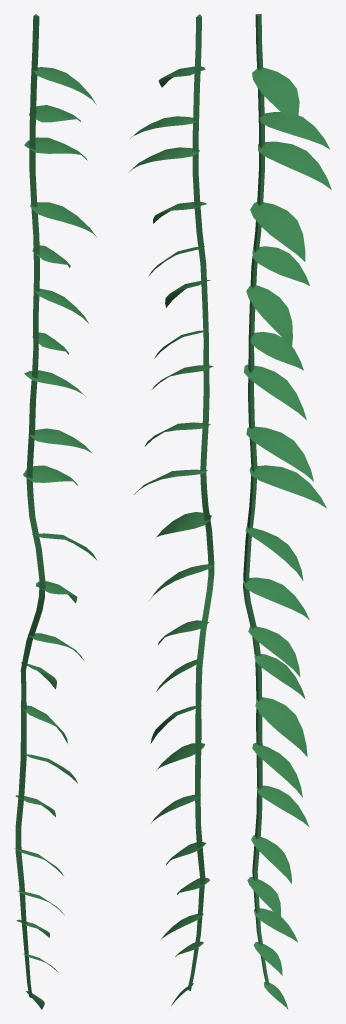
The model's file is vine_curved_B_scanden.fbx.
The picture shows the model from 3 angles, left to right: view 1: azimuth 30°, elevation 25°; view 2: azimuth 150°, elevation 25°; view 3: azimuth 330°, elevation 25°; orthographic projection.
Parts seen in each view (by area): view 1: vine_curved_B_scanden_root, vine_scanden_A_leaf_A364, vine_scanden_A_leaf_A, vine_scanden_A_leaf_A373, vine_scanden_A_leaf_A363, vine_scanden_A_leaf_A360, vine_scanden_A_leaf_A374, vine_scanden_A_leaf_A429, vine_scanden_A_leaf_A369, vine_scanden_A_leaf_A368, vine_scanden_A_leaf_A370, vine_scanden_A_leaf_A362 (+3 smaller); view 2: vine_curved_B_scanden_root, vine_scanden_A_leaf_A361, vine_scanden_A_leaf_A363, vine_scanden_A_leaf_A374, vine_scanden_A_leaf_A414, vine_scanden_A_leaf_A362, vine_scanden_A_leaf_A360, vine_scanden_A_leaf_A, vine_scanden_A_leaf_A365, vine_scanden_A_leaf_A373, vine_scanden_A_leaf_A405, vine_scanden_A_leaf_A364 (+4 smaller); view 3: vine_curved_B_scanden_root, vine_scanden_A_leaf_A364, vine_scanden_A_leaf_A373, vine_scanden_A_leaf_A363, vine_scanden_A_leaf_A, vine_scanden_A_leaf_A369, vine_scanden_A_leaf_A402, vine_scanden_A_leaf_A360, vine_scanden_A_leaf_A429, vine_scanden_A_leaf_A368, vine_scanden_A_leaf_A362, vine_scanden_A_leaf_A374 (+10 smaller).
Boxes of the visible parts, left/top/right/bottom form: vine_curved_B_scanden_root: left=15, top=14, right=45, bottom=997; vine_scanden_A_leaf_A364: left=30, top=202, right=96, bottom=236; vine_scanden_A_leaf_A: left=29, top=428, right=91, bottom=452; vine_scanden_A_leaf_A373: left=33, top=67, right=96, bottom=104; vine_scanden_A_leaf_A363: left=24, top=137, right=87, bottom=160; vine_scanden_A_leaf_A360: left=23, top=465, right=77, bottom=485; vine_scanden_A_leaf_A374: left=29, top=105, right=80, bottom=122; vine_scanden_A_leaf_A429: left=24, top=370, right=86, bottom=397; vine_scanden_A_leaf_A369: left=34, top=288, right=88, bottom=323; vine_scanden_A_leaf_A368: left=32, top=245, right=70, bottom=267; vine_scanden_A_leaf_A370: left=32, top=332, right=68, bottom=354; vine_scanden_A_leaf_A362: left=36, top=581, right=77, bottom=603; vine_curved_B_scanden_root: left=188, top=14, right=214, bottom=990; vine_scanden_A_leaf_A361: left=156, top=512, right=211, bottom=537; vine_scanden_A_leaf_A363: left=128, top=147, right=199, bottom=172; vine_scanden_A_leaf_A374: left=130, top=116, right=195, bottom=138; vine_scanden_A_leaf_A414: left=156, top=743, right=205, bottom=770; vine_scanden_A_leaf_A362: left=149, top=564, right=213, bottom=600; vine_scanden_A_leaf_A360: left=134, top=469, right=207, bottom=494; vine_scanden_A_leaf_A: left=144, top=422, right=210, bottom=446; vine_scanden_A_leaf_A365: left=158, top=620, right=208, bottom=644; vine_scanden_A_leaf_A373: left=158, top=66, right=205, bottom=87; vine_scanden_A_leaf_A405: left=150, top=794, right=199, bottom=823; vine_scanden_A_leaf_A364: left=153, top=202, right=206, bottom=223; vine_curved_B_scanden_root: left=243, top=14, right=269, bottom=985; vine_scanden_A_leaf_A364: left=250, top=202, right=305, bottom=261; vine_scanden_A_leaf_A373: left=252, top=67, right=299, bottom=127; vine_scanden_A_leaf_A363: left=258, top=141, right=331, bottom=189; vine_scanden_A_leaf_A: left=246, top=426, right=313, bottom=481; vine_scanden_A_leaf_A369: left=246, top=285, right=292, bottom=348; vine_scanden_A_leaf_A402: left=255, top=697, right=307, bottom=756; vine_scanden_A_leaf_A360: left=249, top=465, right=326, bottom=508; vine_scanden_A_leaf_A429: left=244, top=364, right=306, bottom=419; vine_scanden_A_leaf_A368: left=252, top=246, right=309, bottom=285; vine_scanden_A_leaf_A362: left=243, top=577, right=309, bottom=619; vine_scanden_A_leaf_A374: left=259, top=112, right=330, bottom=149.
Size of the model in its own units: 32.49 by 410 by 26.25.
